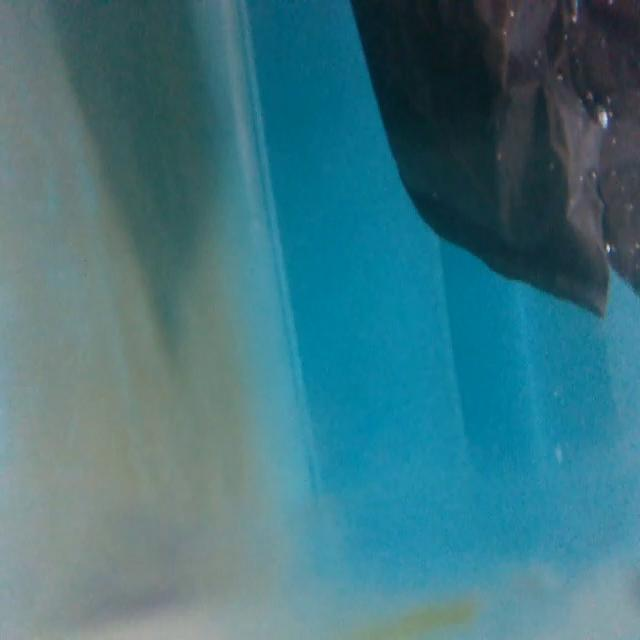plastic bags: (346, 0, 639, 320)
